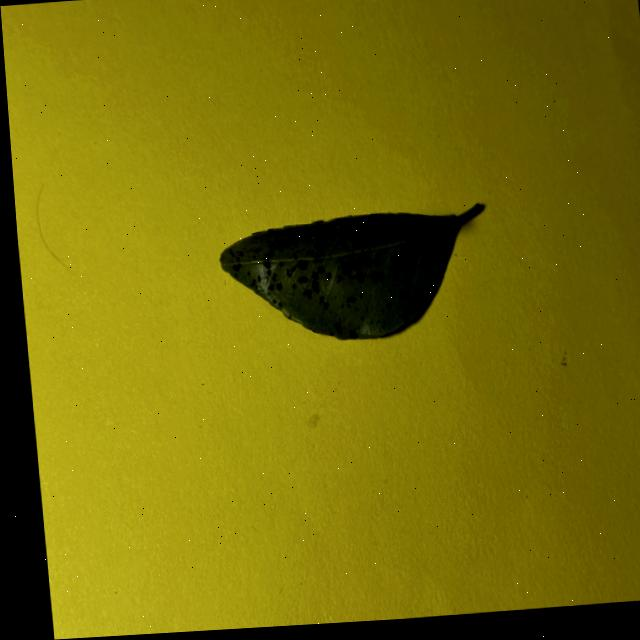sooty_mold: (219, 204, 482, 339)
